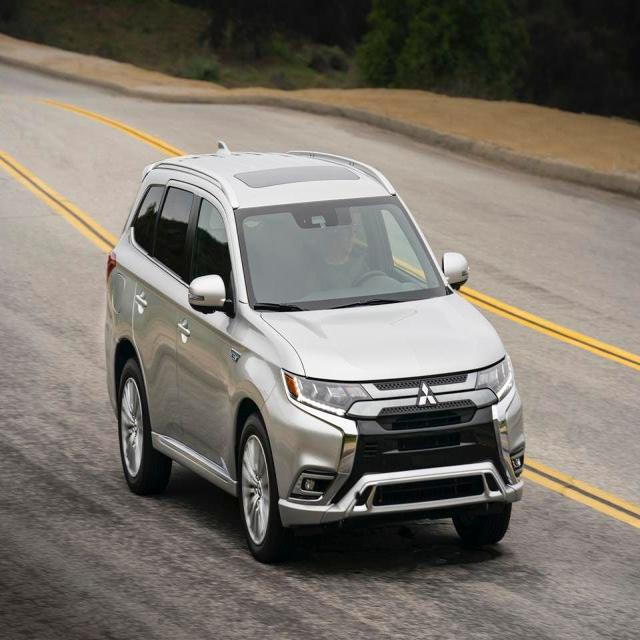light_vehicle: (103, 140, 526, 561)
